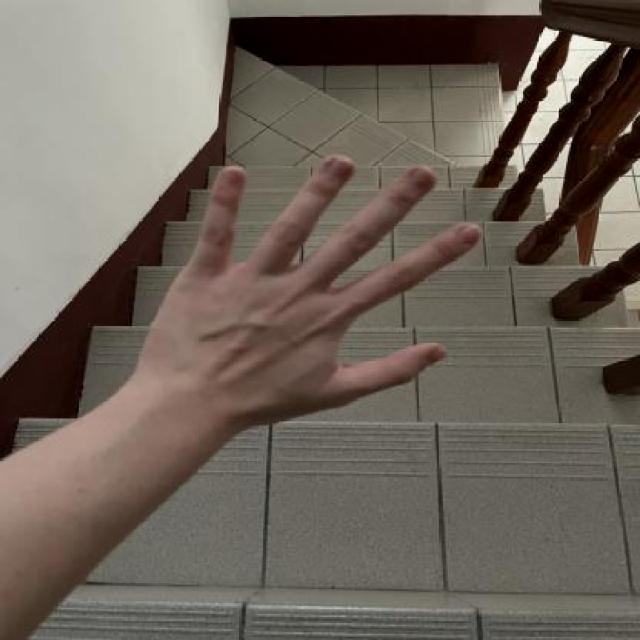no_glove: (116, 138, 498, 436)
